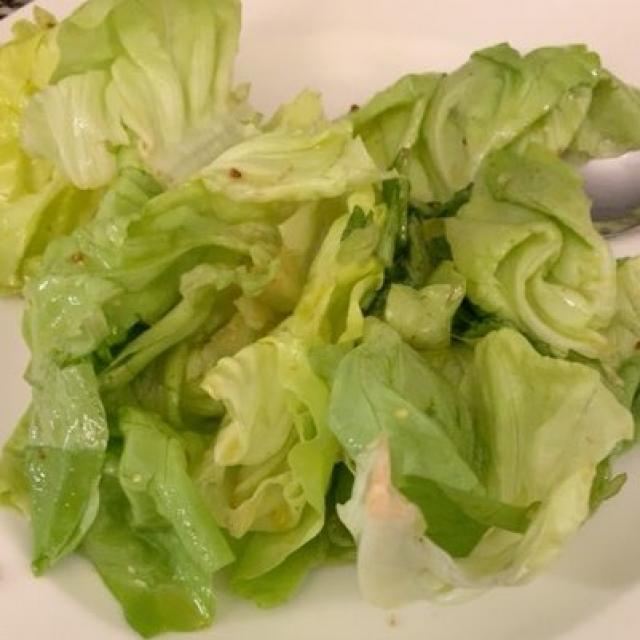salad-leaf-salad-green: (14, 14, 626, 618)
